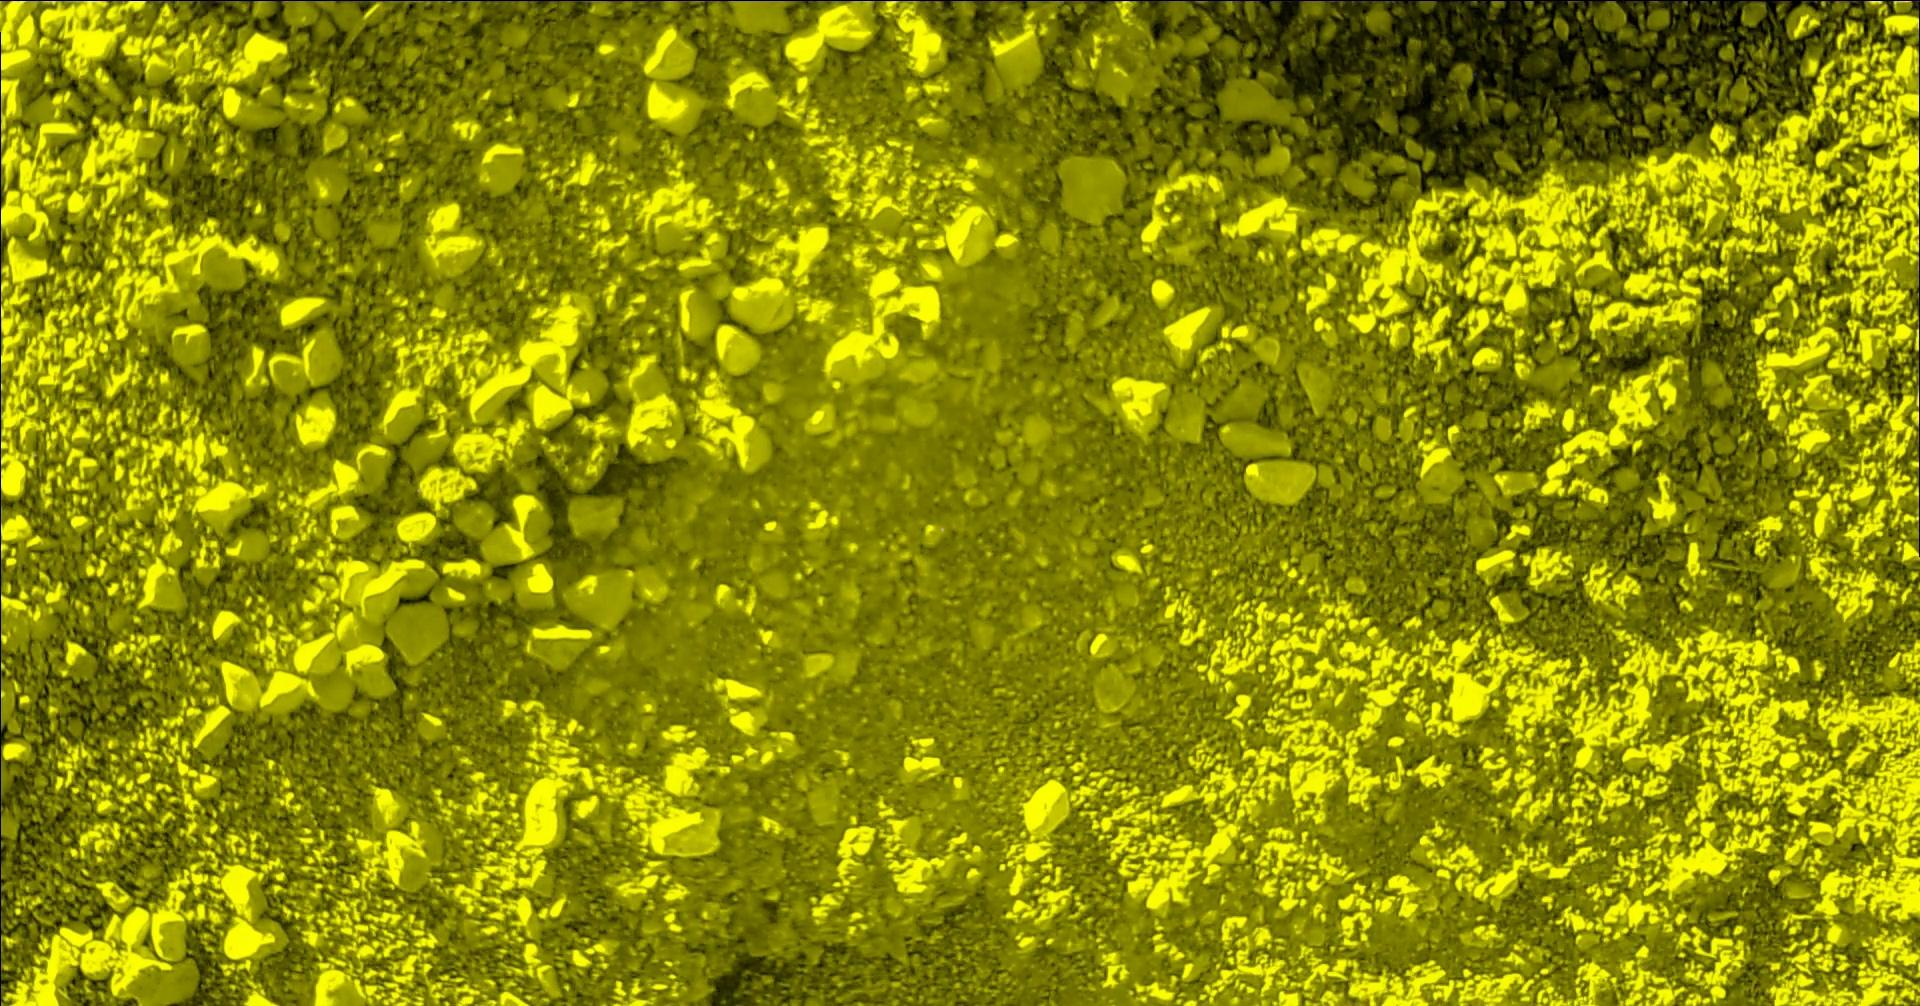ant: (969, 0, 1029, 3)
